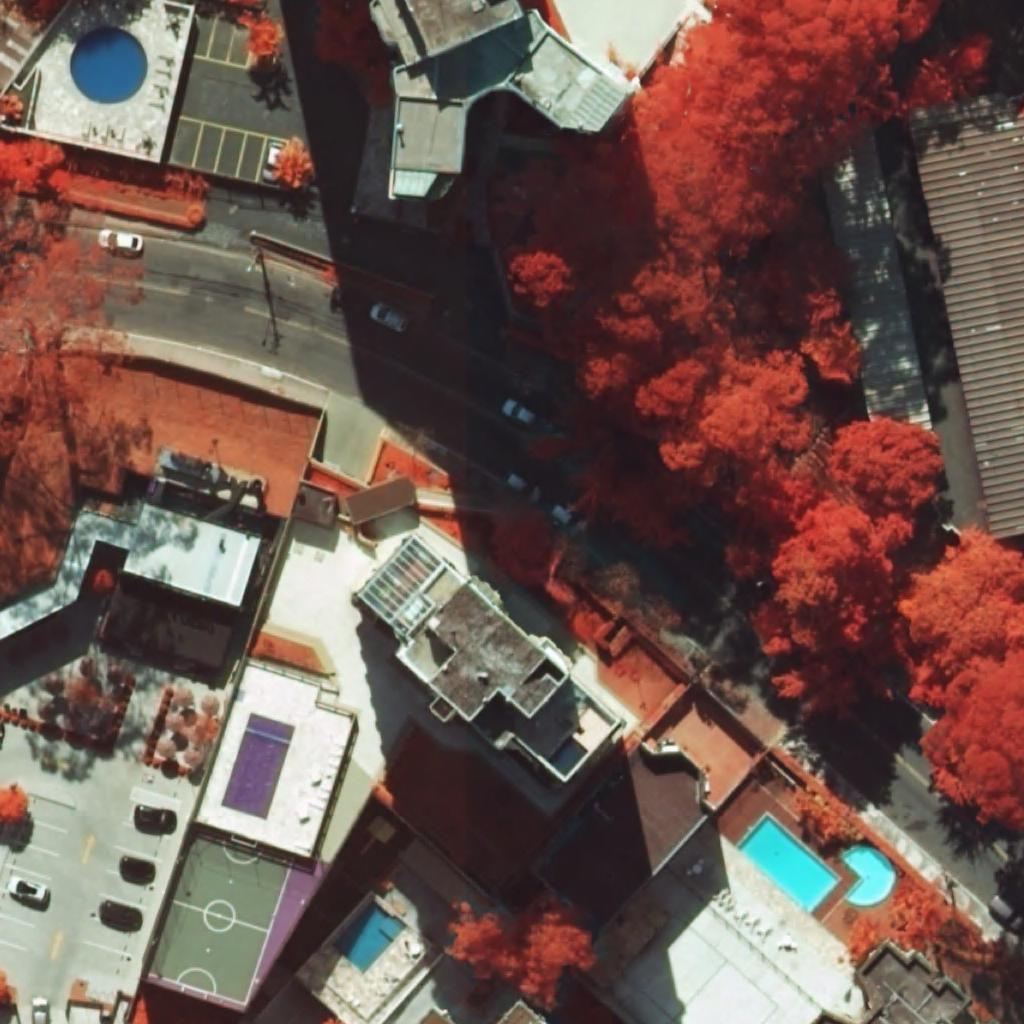pool: (737, 815, 838, 911), (221, 712, 295, 821), (69, 25, 149, 105), (332, 900, 407, 973), (842, 846, 894, 902), (547, 735, 589, 777)
